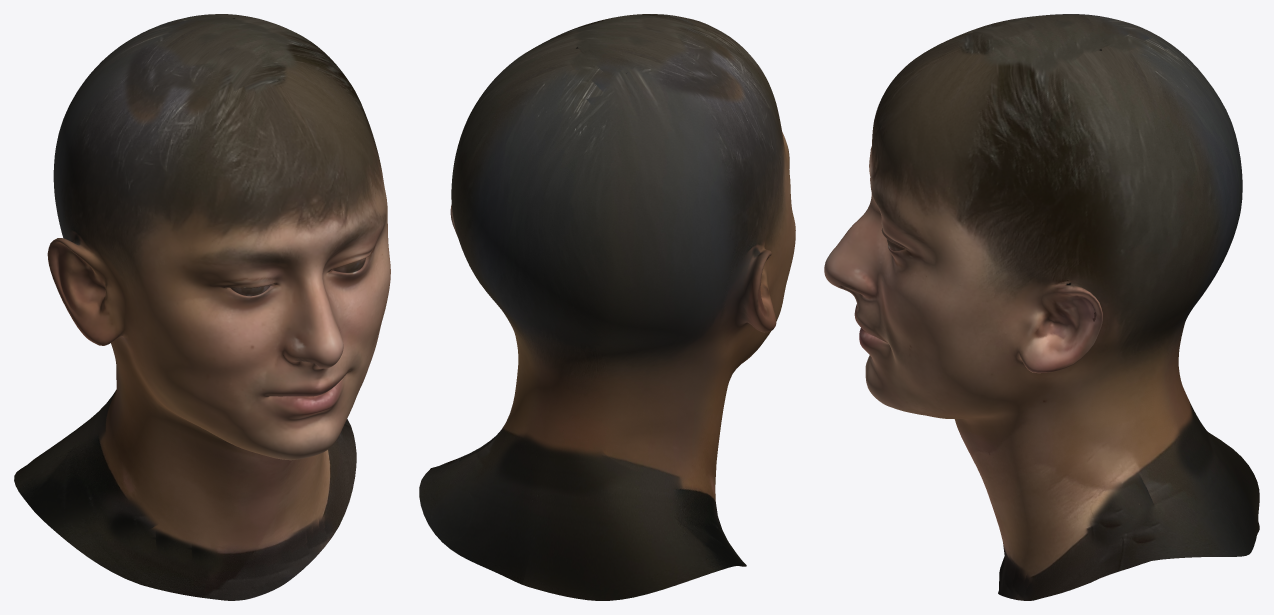
Rendered from MyFace.glb.
3 views of the same model, side by side, from view 1: azimuth 30°, elevation 25°; view 2: azimuth 150°, elevation 25°; view 3: azimuth 270°, elevation 25° (orthographic). The views are drawn at different scales.
Parts seen in each view (by area): view 1: FBHead.002; view 2: FBHead.002; view 3: FBHead.002.
Boxes of the visible parts, left/top/right/bottom form: FBHead.002: left=14, top=14, right=390, bottom=600; FBHead.002: left=419, top=14, right=795, bottom=600; FBHead.002: left=824, top=14, right=1259, bottom=600.
Bounding box in the file's own units: 1.62 × 2.67 × 1.9.
1 material, 1 textured.
